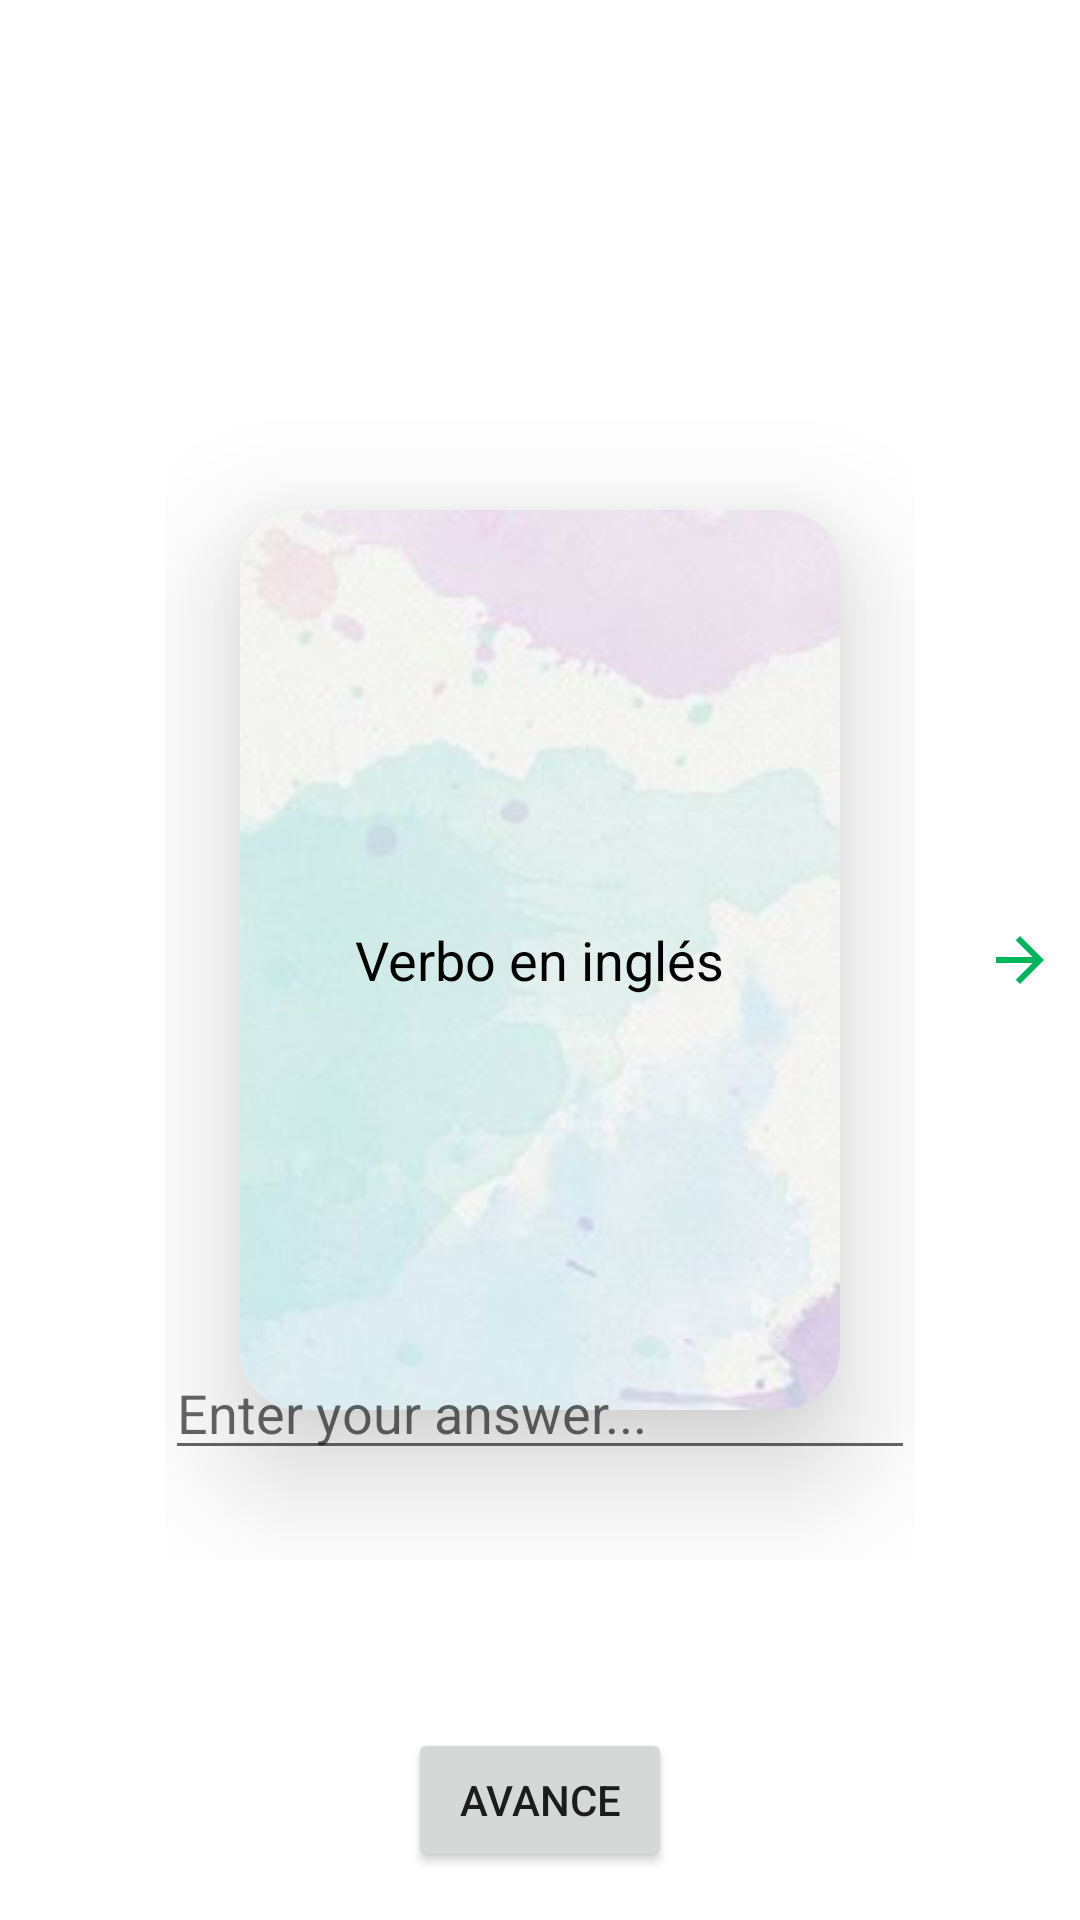

Icons on this 1080×1920 Android screen, each with the point to tap as [x,y]:
arrow forward: [1020,960]
